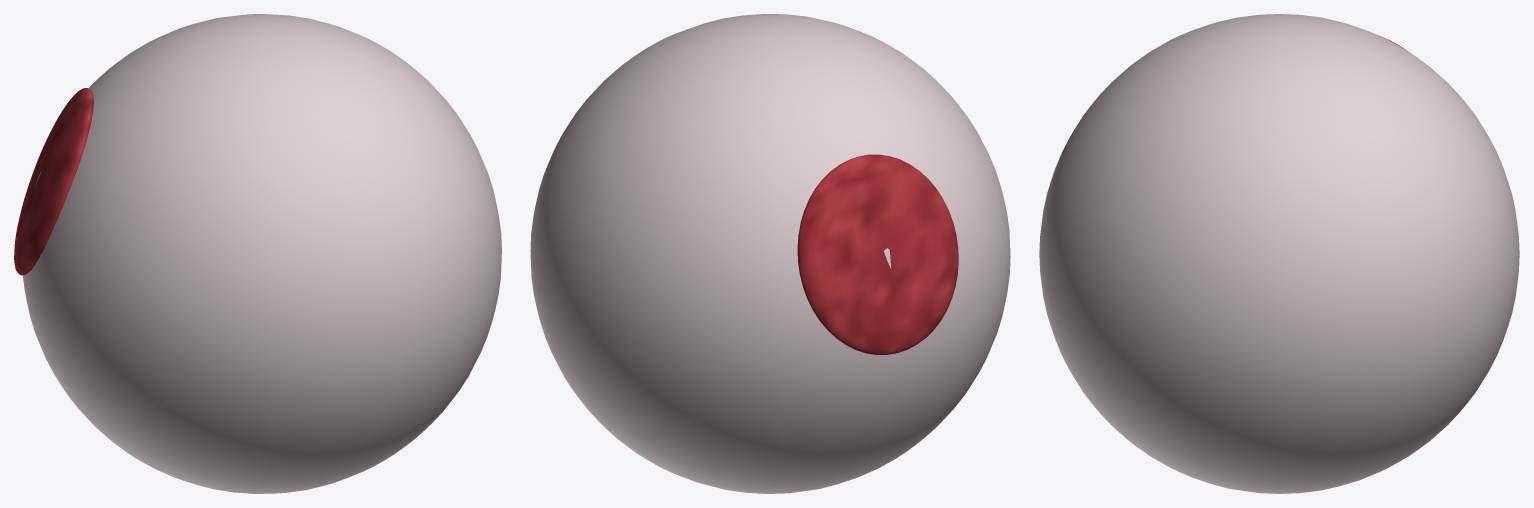
The model's file is hafta_26.glb.
The picture shows the model from 3 angles, left to right: view 1: azimuth 30°, elevation 25°; view 2: azimuth 150°, elevation 25°; view 3: azimuth 270°, elevation 25°; orthographic projection.
Parts seen in each view (by area): view 1: Amniyon_kesesi, Plasenta; view 2: Amniyon_kesesi, Plasenta; view 3: Amniyon_kesesi.
Part boxes in pixels (x1=…): Amniyon_kesesi: x1=22, y1=14, x2=501, y2=493; Plasenta: x1=14, y1=88, x2=93, y2=275; Amniyon_kesesi: x1=530, y1=14, x2=1010, y2=493; Plasenta: x1=797, y1=154, x2=958, y2=354; Amniyon_kesesi: x1=1039, y1=14, x2=1519, y2=493.
Bounding box in the file's own units: 1.57 × 1.57 × 1.57.
